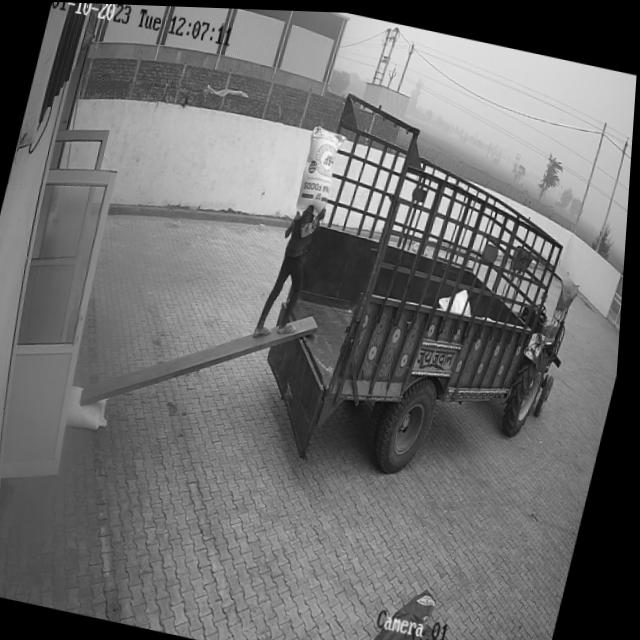sack: (294, 124, 348, 218), (68, 382, 119, 432)
